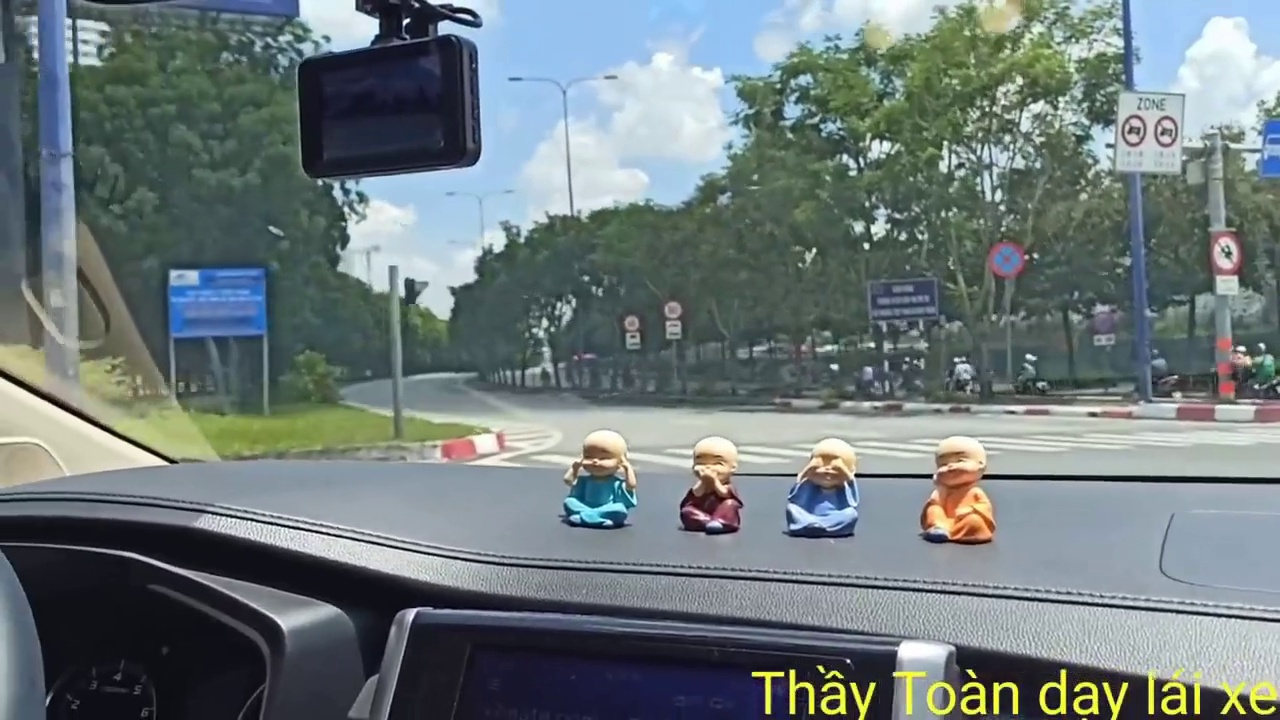Cấm các phương tiện quy định theo khung giờ: (1100, 80, 1191, 182)
Cấm dừng - Cấm đỗ: (987, 232, 1019, 282), (1091, 307, 1115, 348)
Cấm xe máy: (1200, 222, 1242, 293)
Giới hạn tốc độ: 60: (620, 309, 642, 333)
Giới hạn tốc độ: 80: (655, 295, 685, 321)
